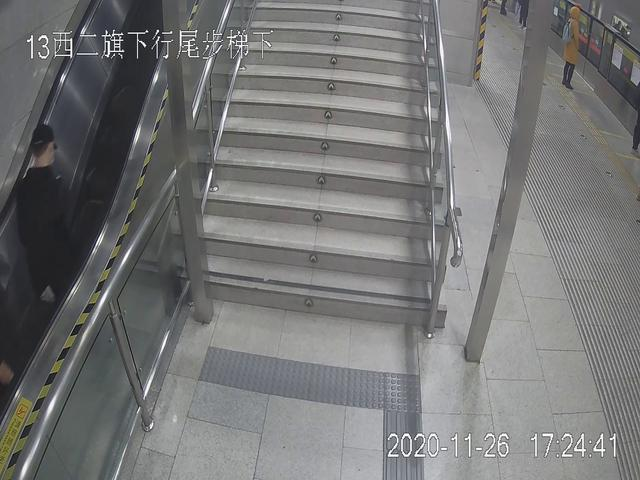person: (3, 118, 71, 296), (554, 1, 585, 95)
